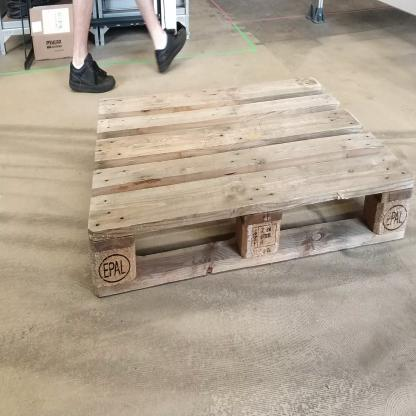BoxFace: (81, 63, 414, 305)
